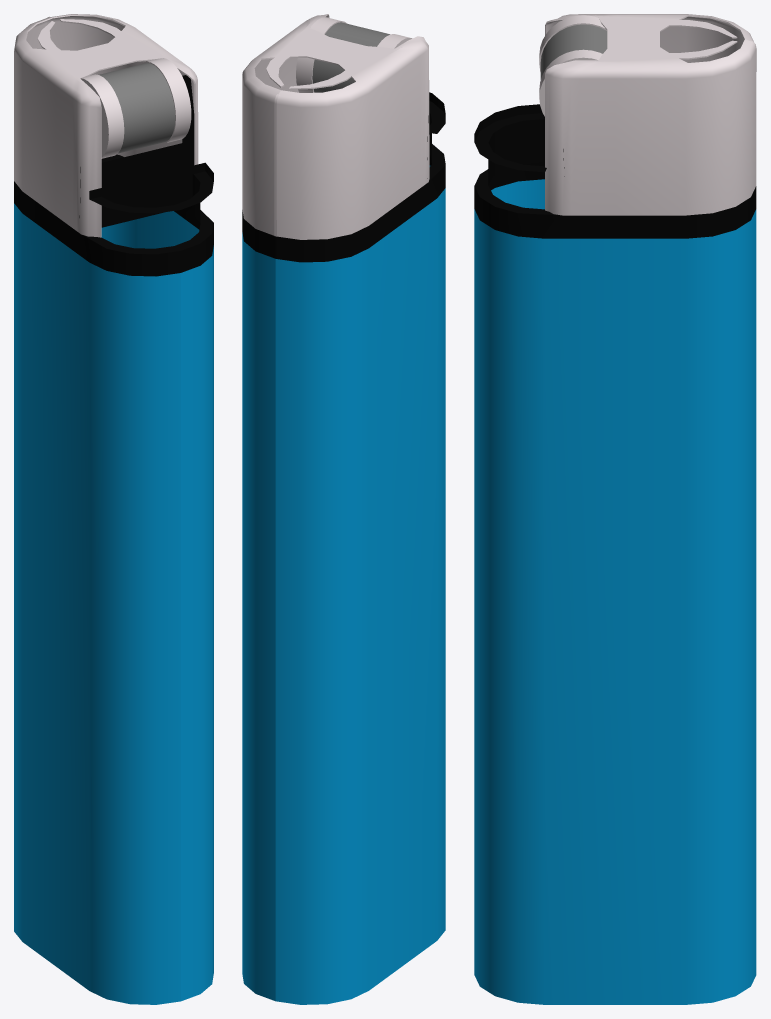
Rendered from Lighter.fbx.
3 views of the same model, side by side, from view 1: azimuth 30°, elevation 25°; view 2: azimuth 150°, elevation 25°; view 3: azimuth 270°, elevation 25° (orthographic). The views are drawn at different scales.
Visible parts, largest first — view 1: Cube, Cube.003, Cylinder, Cube.002; view 2: Cube, Cube.003, Cylinder, Cube.002; view 3: Cube, Cube.003, Cube.002, Cylinder.
Boxes of the visible parts, x1,y1,x2,y2 form: Cube: (14, 75, 213, 1004); Cube.003: (14, 14, 198, 237); Cylinder: (80, 58, 191, 158); Cube.002: (89, 162, 213, 222); Cube: (242, 115, 445, 1004); Cube.003: (242, 14, 429, 239); Cylinder: (296, 17, 412, 92); Cube.002: (429, 92, 445, 162); Cube: (474, 149, 756, 1004); Cube.003: (545, 14, 756, 215); Cube.002: (474, 104, 546, 185); Cylinder: (539, 15, 607, 116).
Size of the model in its own units: 7.82 by 57.5 by 15.66.
